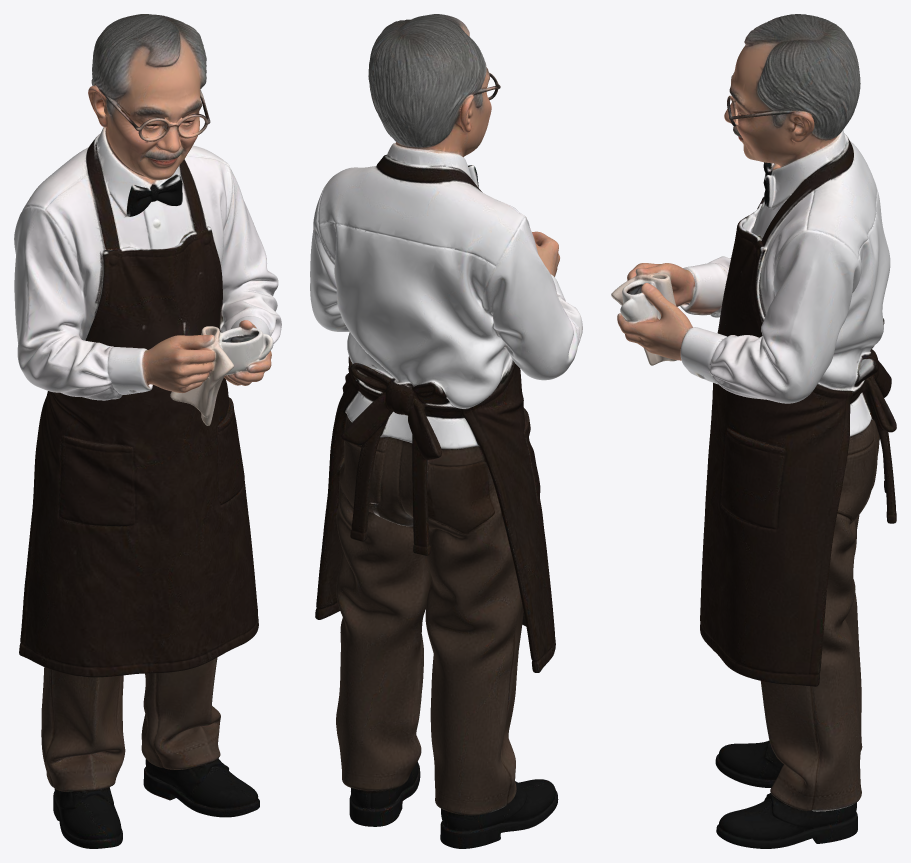
The model's file is master.glb.
The picture shows the model from 3 angles, left to right: view 1: azimuth 30°, elevation 25°; view 2: azimuth 150°, elevation 25°; view 3: azimuth 270°, elevation 25°; orthographic projection.
Size of the model in its own units: 0.6481 by 1.9 by 0.6211.
Materials: 1 (1 with a texture image).
